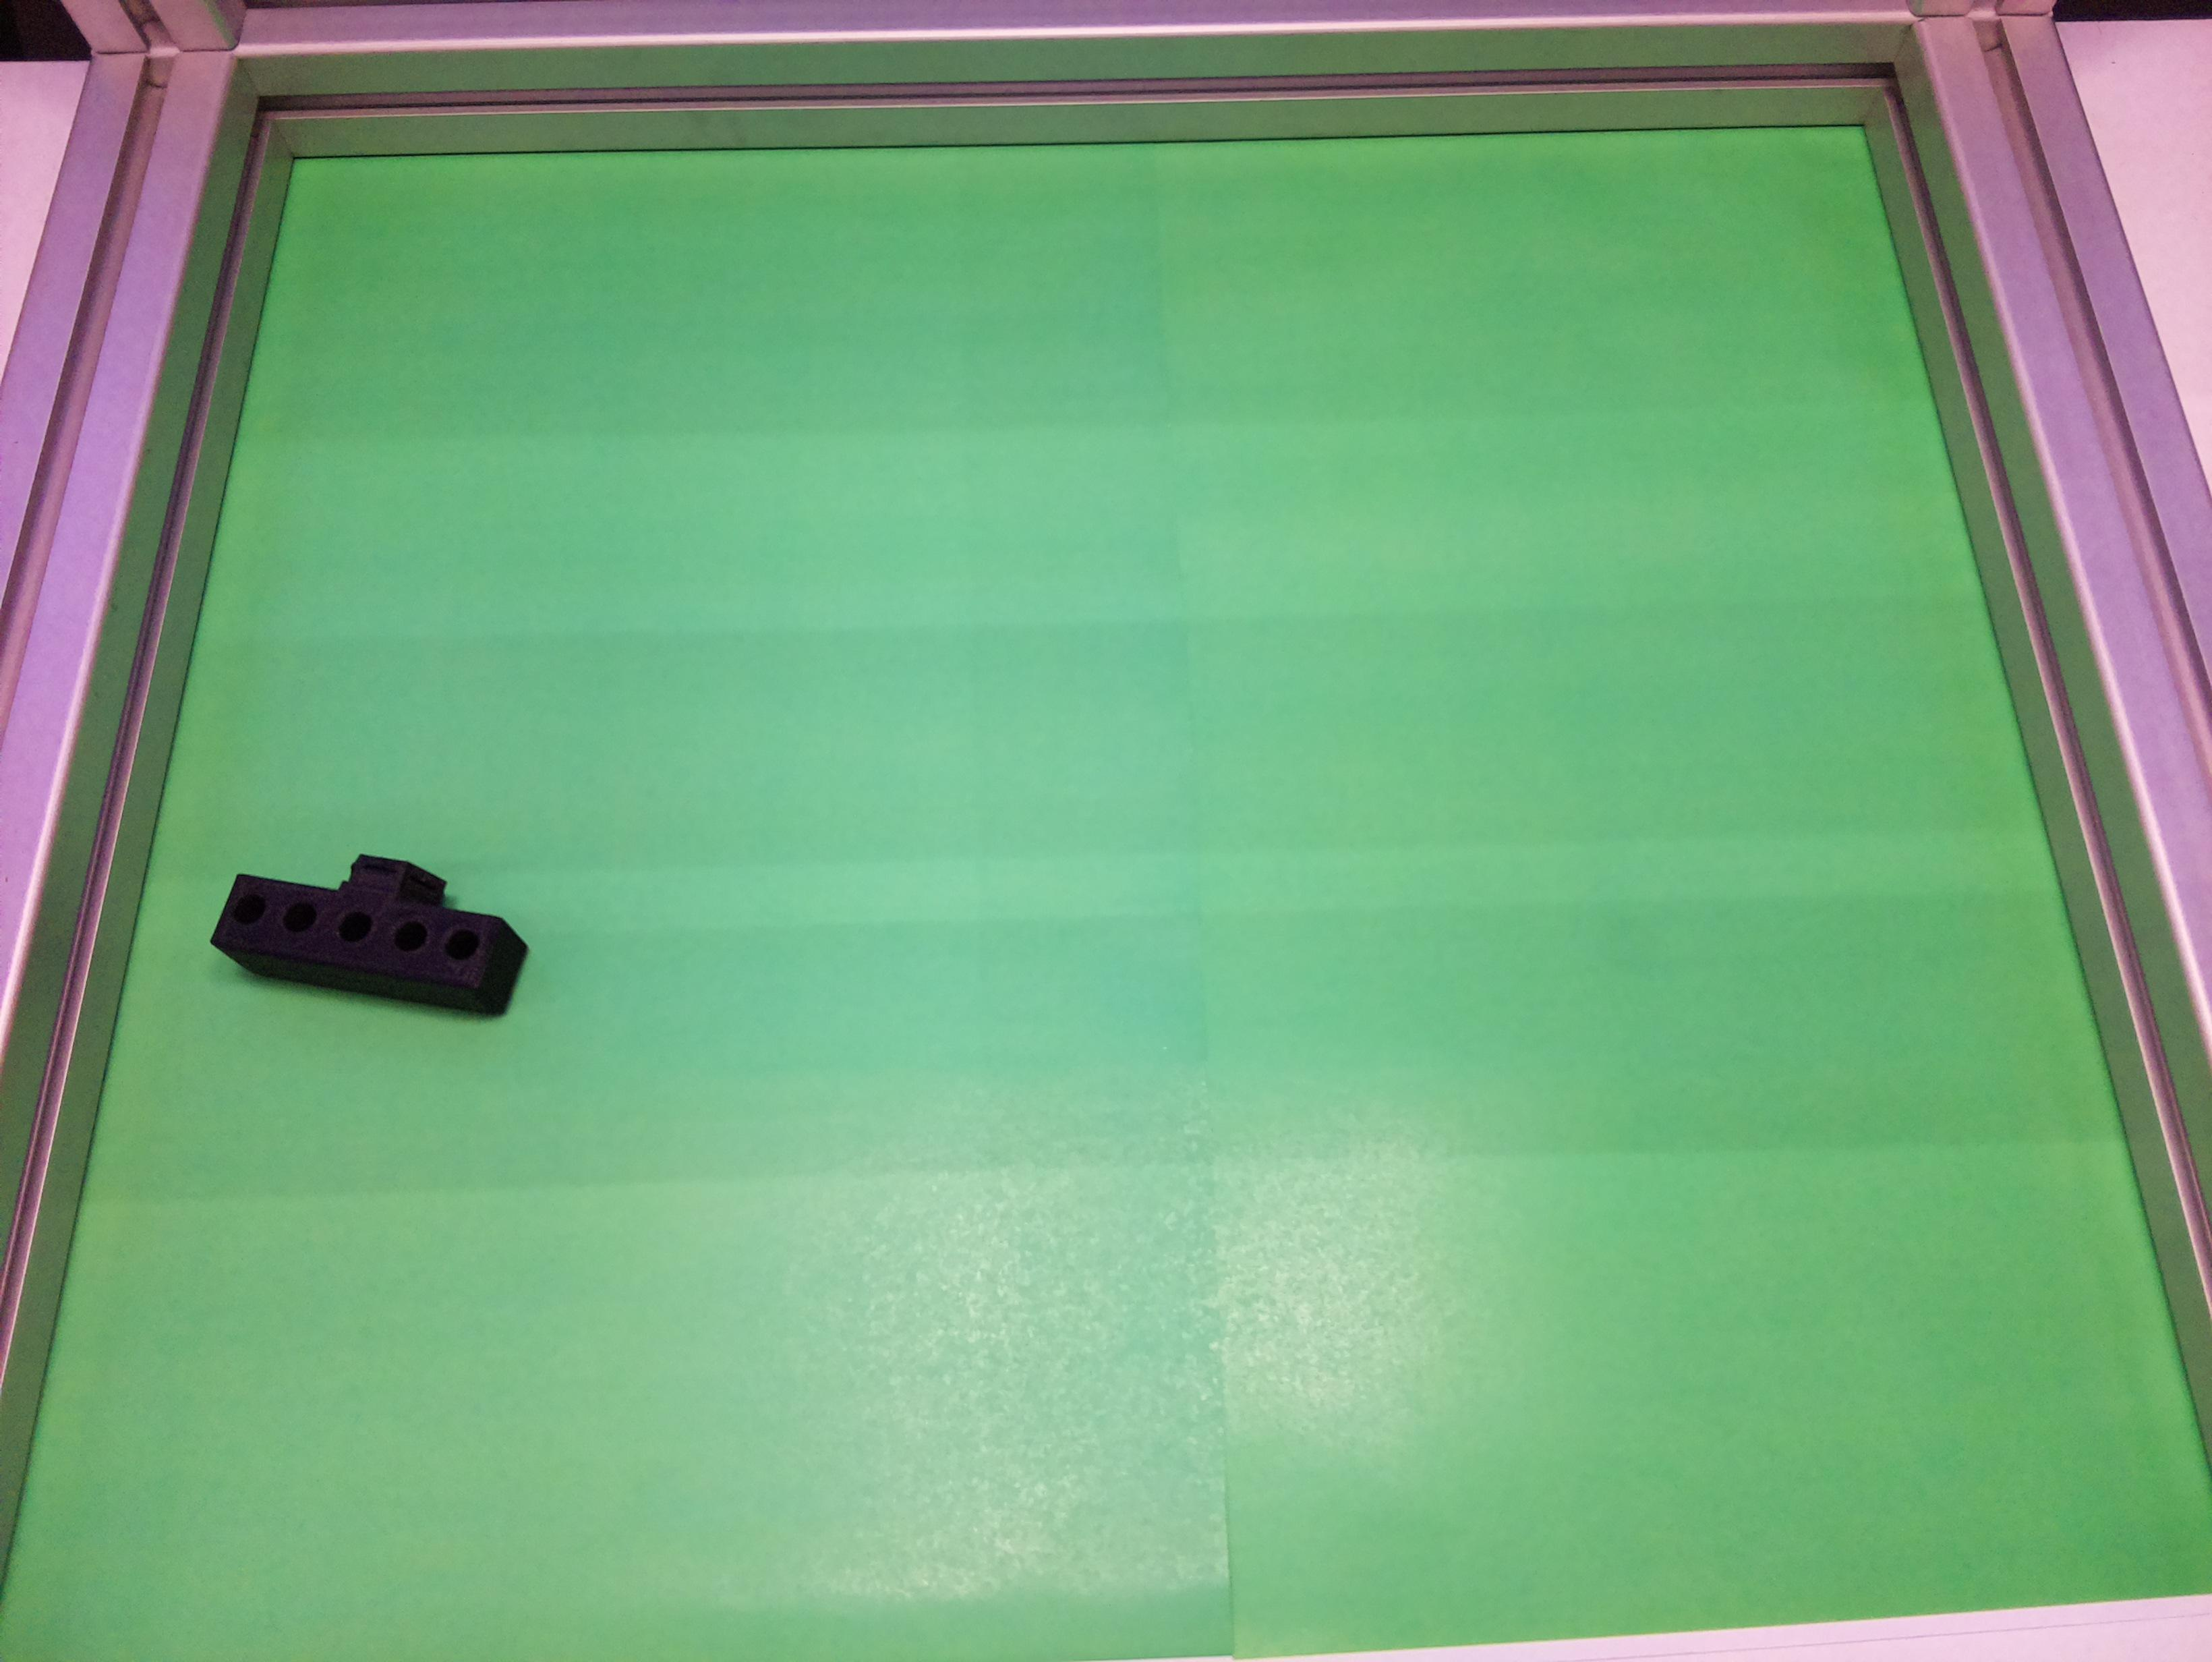bit_holder: (206, 829, 539, 1023)
